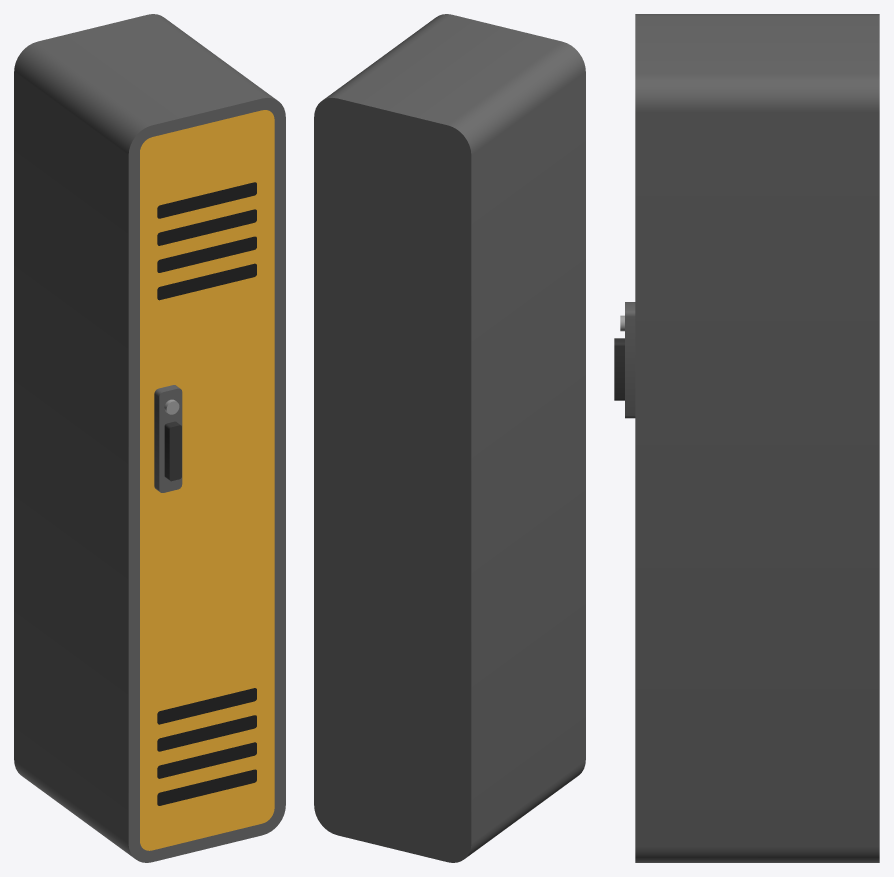
Rendered from Locker Yellow.fbx.
3 views of the same model, side by side, from view 1: azimuth 30°, elevation 25°; view 2: azimuth 150°, elevation 25°; view 3: azimuth 270°, elevation 25° (orthographic). The views are drawn at different scales.
Visible parts, largest first — view 1: Locker Yellow, Locker Door Yellow; view 2: Locker Yellow; view 3: Locker Yellow, Locker Door Yellow.
Boxes of the visible parts, left/top/right/bottom form: Locker Yellow: left=14, top=14, right=285, bottom=862; Locker Door Yellow: left=140, top=110, right=274, bottom=850; Locker Yellow: left=314, top=14, right=585, bottom=862; Locker Yellow: left=635, top=14, right=879, bottom=862; Locker Door Yellow: left=614, top=302, right=635, bottom=418.
Bounding box in the file's own units: 57.6 × 258 × 78.94.
